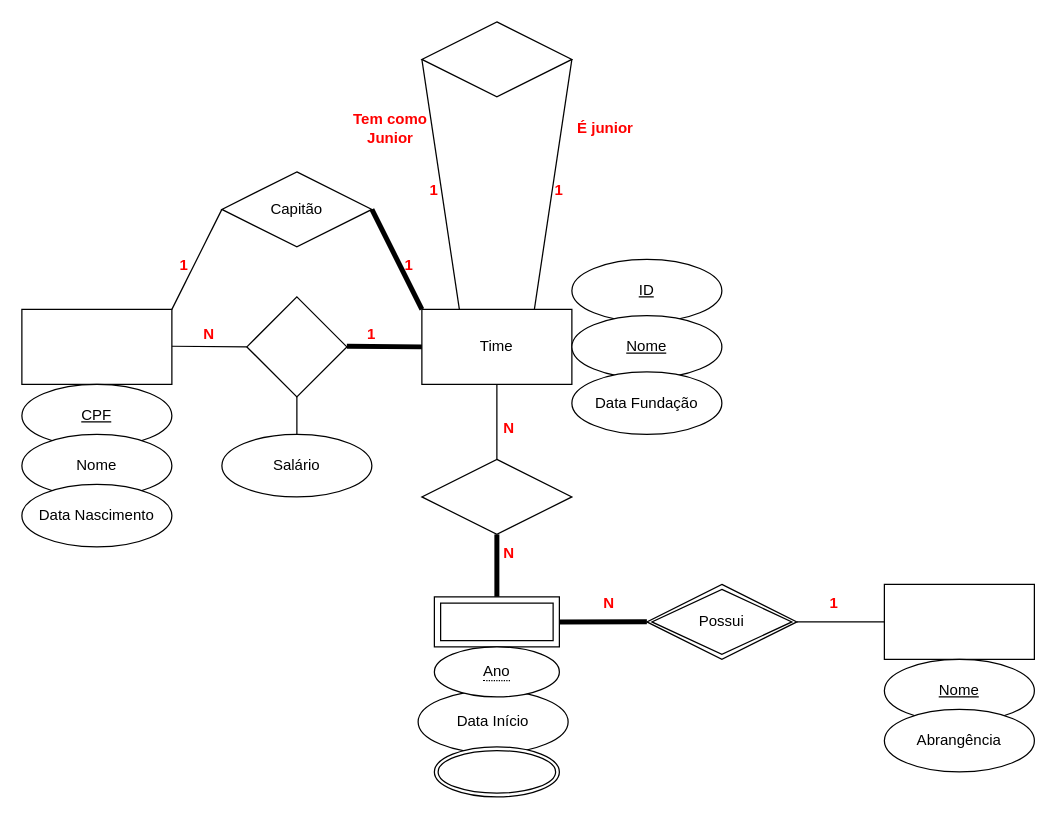
Image size: 1056x819. Some labels were removed from this diagram. Each missing label, with the centre of its shape:
Campeonato: (x=958, y=621)
Contrato: (x=296, y=346)
Jogador: (x=96, y=346)
Junior: (x=496, y=59)
Participa: (x=496, y=496)
Patrocinador: (x=496, y=771)
Temporada: (x=496, y=621)
